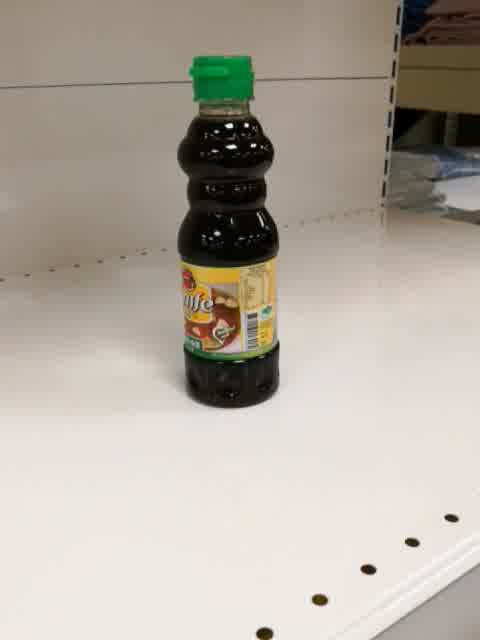cookingoil: (173, 54, 283, 410)
